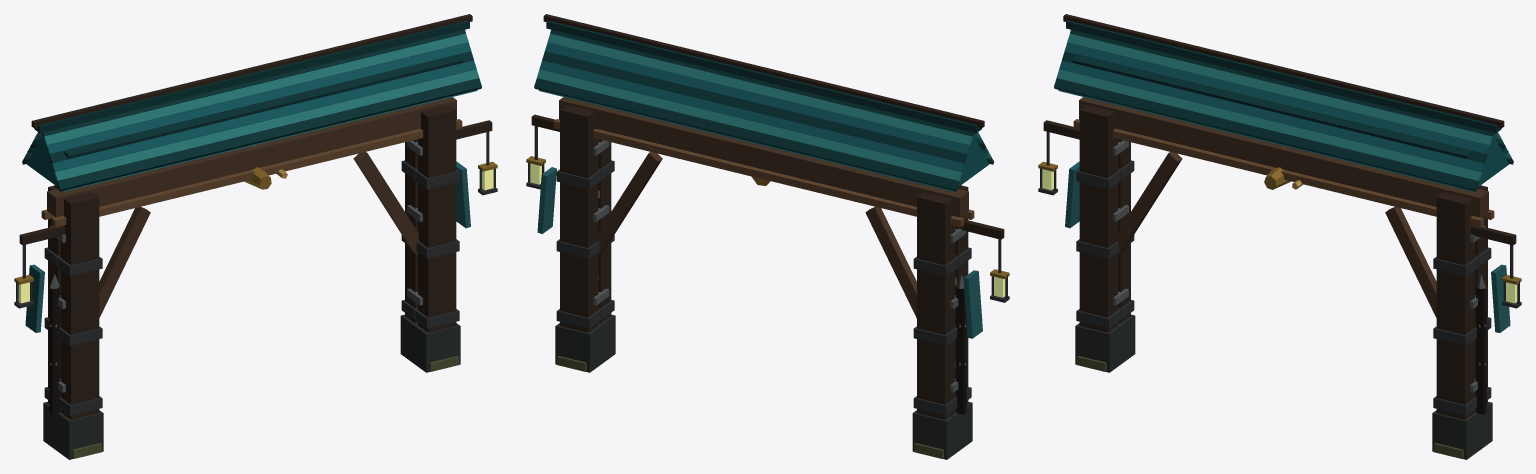
File: fenbridge_gate_arch.glb
3 renders of one model, left to right at view 1: azimuth 30°, elevation 25°; view 2: azimuth 150°, elevation 25°; view 3: azimuth 330°, elevation 25°, orthographic.
Parts seen in each view (by area): view 1: FenbridgeGateArch_FenbridgeOpaque; view 2: FenbridgeGateArch_FenbridgeOpaque; view 3: FenbridgeGateArch_FenbridgeOpaque.
Part boxes in pixels (x1,y1,x2,y2): FenbridgeGateArch_FenbridgeOpaque: (14, 14, 497, 459); FenbridgeGateArch_FenbridgeOpaque: (526, 14, 1009, 459); FenbridgeGateArch_FenbridgeOpaque: (1038, 14, 1521, 459).
Size of the model in its own units: 7.2 by 4.8 by 1.
